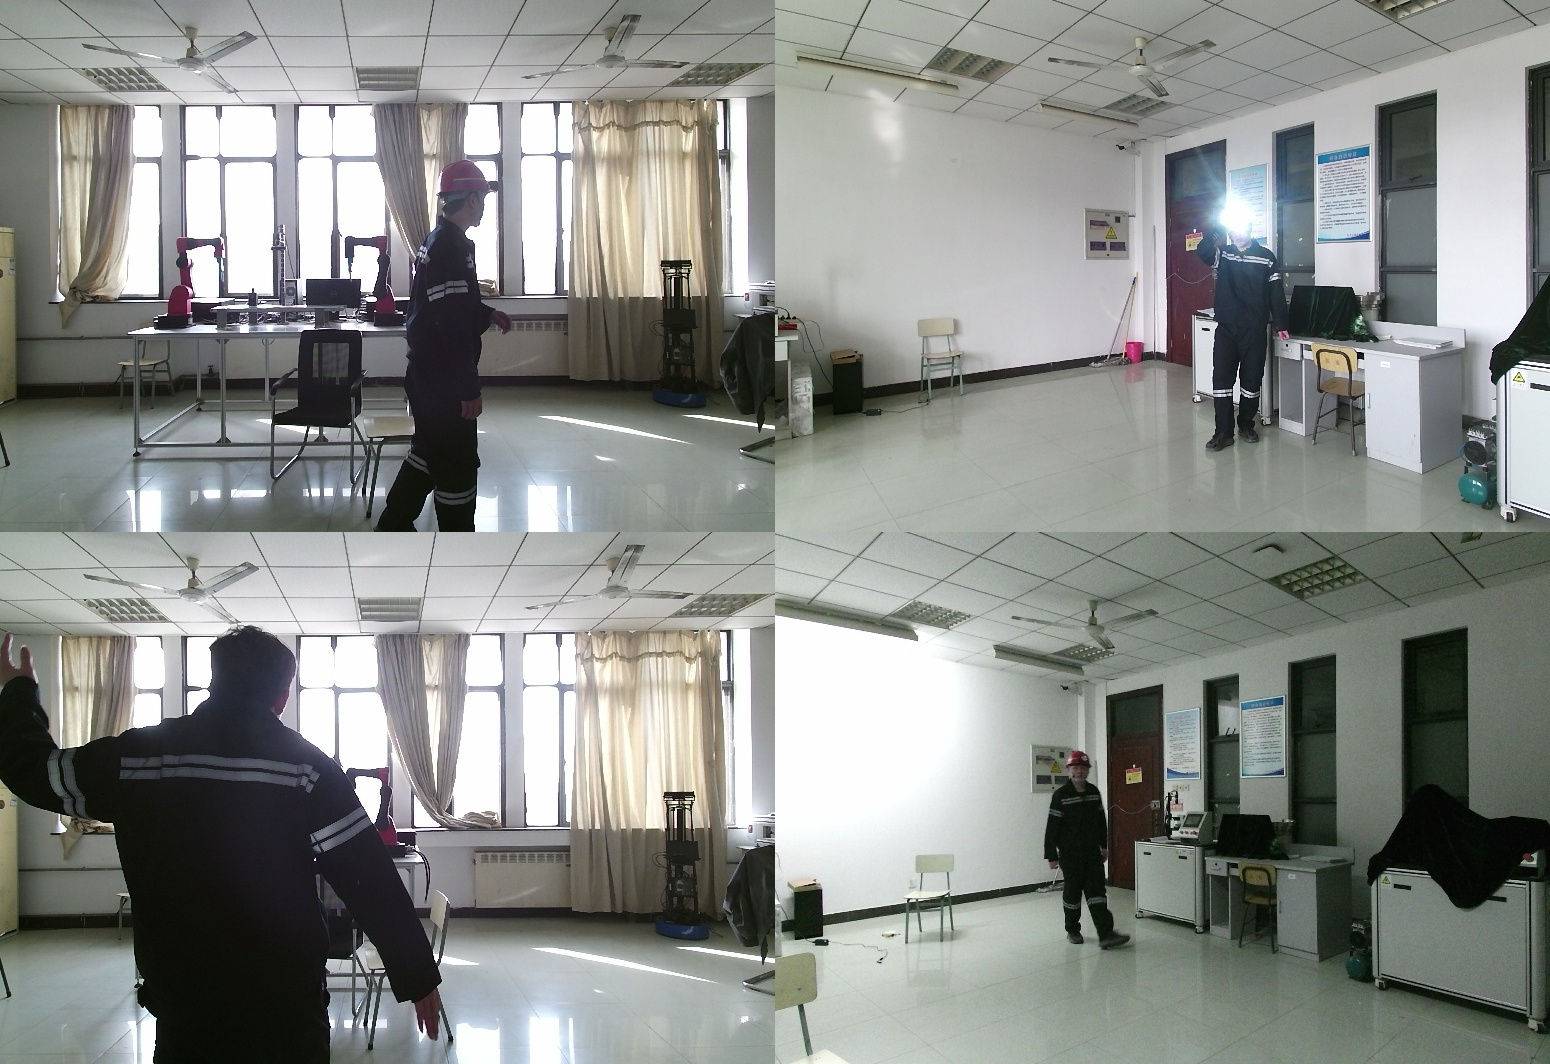person: (1, 629, 451, 1064), (382, 161, 525, 532), (1197, 205, 1297, 451), (1040, 753, 1133, 953)
